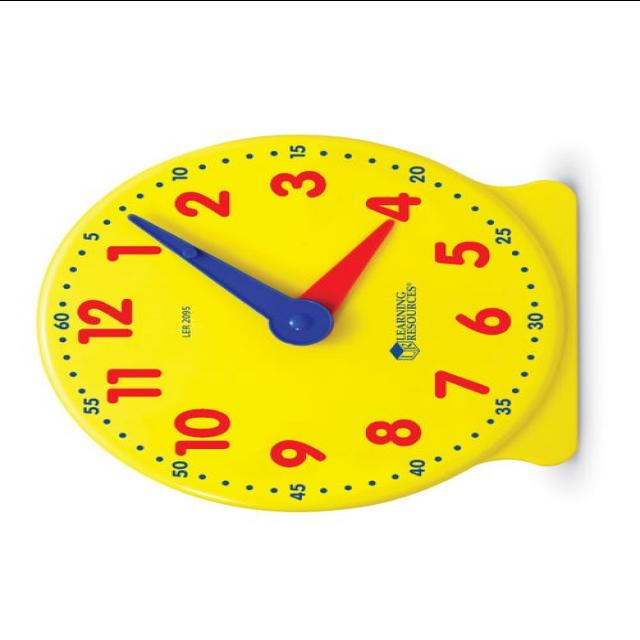clock: (9, 96, 604, 534)
